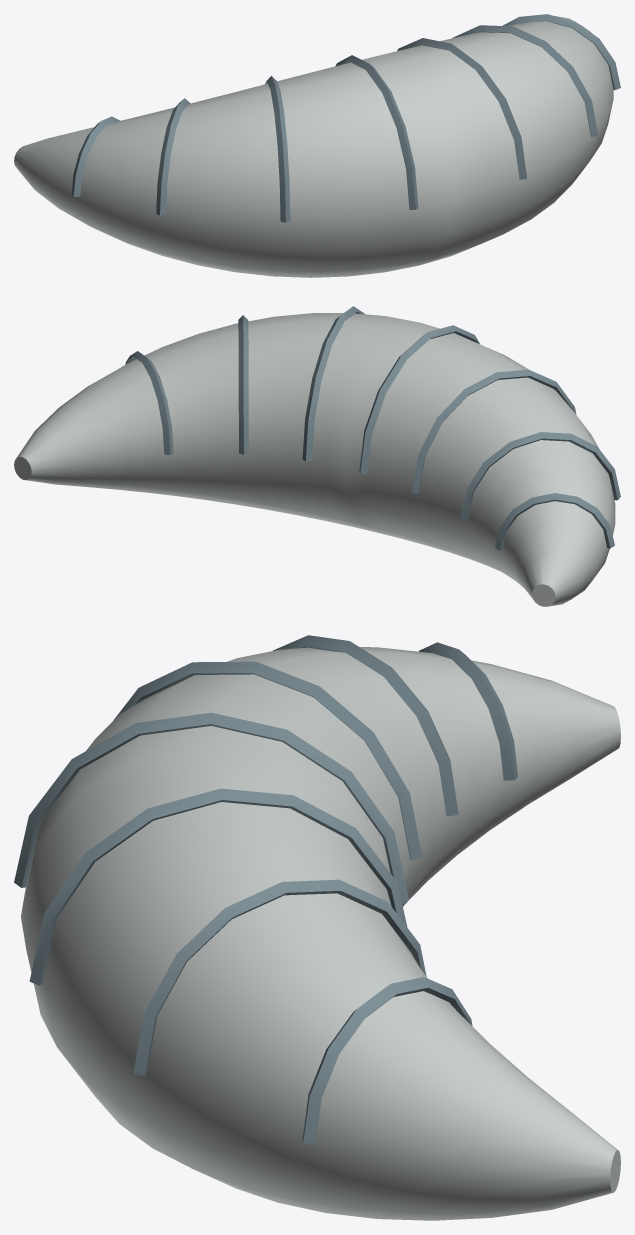
File: croissant.glb
3 renders of one model, top to bottom at view 1: azimuth 30°, elevation 25°; view 2: azimuth 150°, elevation 25°; view 3: azimuth 270°, elevation 25°, orthographic. The views are drawn at different scales.
Visible parts, largest first — view 1: curved_laminated_pastry, rolled_fold.003, rolled_fold.002, rolled_fold.004, rolled_fold.001, rolled_fold.005, rolled_fold, rolled_fold.006; view 2: curved_laminated_pastry, rolled_fold.005, rolled_fold.004, rolled_fold.003, rolled_fold.002, rolled_fold.001, rolled_fold.006, rolled_fold; view 3: curved_laminated_pastry, rolled_fold.003, rolled_fold.002, rolled_fold.001, rolled_fold.004, rolled_fold, rolled_fold.005, rolled_fold.006.
Part boxes in pixels (x1,y1,x2,y2): curved_laminated_pastry: [14, 16, 613, 277]; rolled_fold.003: [335, 55, 418, 209]; rolled_fold.002: [397, 38, 526, 179]; rolled_fold.004: [265, 76, 290, 222]; rolled_fold.001: [452, 25, 598, 136]; rolled_fold.005: [156, 98, 190, 215]; rolled_fold: [502, 14, 620, 90]; rolled_fold.006: [71, 116, 120, 196]; curved_laminated_pastry: [14, 313, 615, 606]; rolled_fold.005: [460, 432, 620, 520]; rolled_fold.004: [412, 369, 576, 493]; rolled_fold.003: [359, 325, 479, 473]; rolled_fold.002: [302, 306, 364, 461]; rolled_fold.001: [238, 315, 248, 454]; rolled_fold.006: [495, 493, 614, 550]; rolled_fold: [125, 351, 173, 454]; curved_laminated_pastry: [21, 647, 620, 1220]; rolled_fold.003: [14, 712, 409, 903]; rolled_fold.002: [29, 788, 407, 985]; rolled_fold.001: [133, 879, 426, 1076]; rolled_fold.004: [113, 661, 422, 860]; rolled_fold: [302, 977, 472, 1144]; rolled_fold.005: [273, 635, 458, 816]; rolled_fold.006: [418, 642, 517, 780].
Bounding box in the file's own units: 0.1536 × 0.0535 × 0.084.
